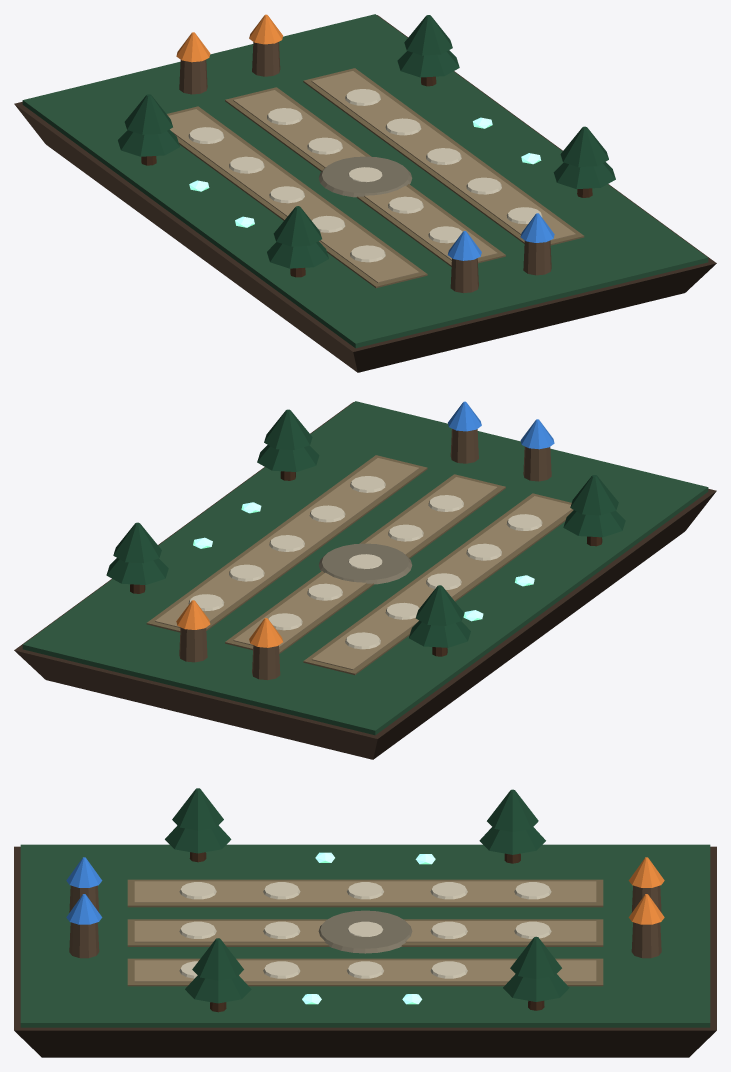
Rendered from field-darkForest-v2.glb.
The picture shows the model from 3 angles, top to bottom: view 1: azimuth 30°, elevation 25°; view 2: azimuth 150°, elevation 25°; view 3: azimuth 270°, elevation 25°; orthographic projection. The views are drawn at different scales.
Visible parts, largest first — view 1: Deck_Top, Island_Base, LanePath_2, LanePath_0, LanePath_1, LaneCurb_2, LaneCurb_0, Monster_Plaza, LaneCurb_1, PineCrown_3_0, PineCrown_1_0, PineCrown_2_0 (+13 smaller); view 2: Deck_Top, Island_Base, LanePath_0, LanePath_2, LanePath_1, LaneCurb_2, LaneCurb_0, Monster_Plaza, LaneCurb_1, PineCrown_0_0, PineCrown_2_0, PineCrown_1_0 (+13 smaller); view 3: Deck_Top, Island_Base, LanePath_0, LanePath_2, LanePath_1, LaneCurb_0, LaneCurb_2, LaneCurb_1, Monster_Plaza, PineCrown_0_0, PineCrown_1_0, PineCrown_3_0 (+26 smaller).
Part boxes in pixels (box(x1,y1,x2,y2)): Deck_Top: box(22, 14, 708, 348); Island_Base: box(14, 15, 716, 372); LanePath_2: box(311, 71, 575, 240); LanePath_0: box(168, 109, 419, 282); LanePath_1: box(233, 90, 497, 260); LaneCurb_2: box(303, 68, 584, 245); LaneCurb_0: box(167, 106, 427, 288); Monster_Plaza: box(318, 156, 412, 197); LaneCurb_1: box(225, 87, 505, 266); PineCrown_3_0: box(397, 50, 459, 77); PineCrown_1_0: box(553, 162, 615, 189); PineCrown_2_0: box(118, 129, 179, 156); Deck_Top: box(22, 401, 708, 735); Island_Base: box(14, 402, 716, 759); LanePath_0: box(311, 496, 572, 669); LanePath_2: box(155, 458, 419, 627); LanePath_1: box(233, 477, 497, 647); LaneCurb_2: box(146, 455, 427, 632); LaneCurb_0: box(303, 493, 573, 675); Monster_Plaza: box(318, 543, 412, 584); LaneCurb_1: box(225, 474, 505, 653); PineCrown_0_0: box(563, 510, 625, 537); PineCrown_2_0: box(409, 620, 470, 647); PineCrown_1_0: box(257, 445, 319, 471); Deck_Top: box(20, 844, 710, 1027); Island_Base: box(14, 846, 716, 1057); LanePath_0: box(134, 881, 596, 902); LanePath_2: box(134, 960, 596, 982); LanePath_1: box(134, 921, 596, 942); LaneCurb_0: box(127, 879, 603, 907); LaneCurb_2: box(127, 958, 603, 986); LaneCurb_1: box(127, 919, 603, 946); Monster_Plaza: box(318, 910, 412, 953); PineCrown_0_0: box(165, 825, 231, 853); PineCrown_1_0: box(185, 975, 251, 1003); PineCrown_3_0: box(503, 974, 569, 1001).
Bounding box in the file's own units: 13 × 3.65 × 21.
